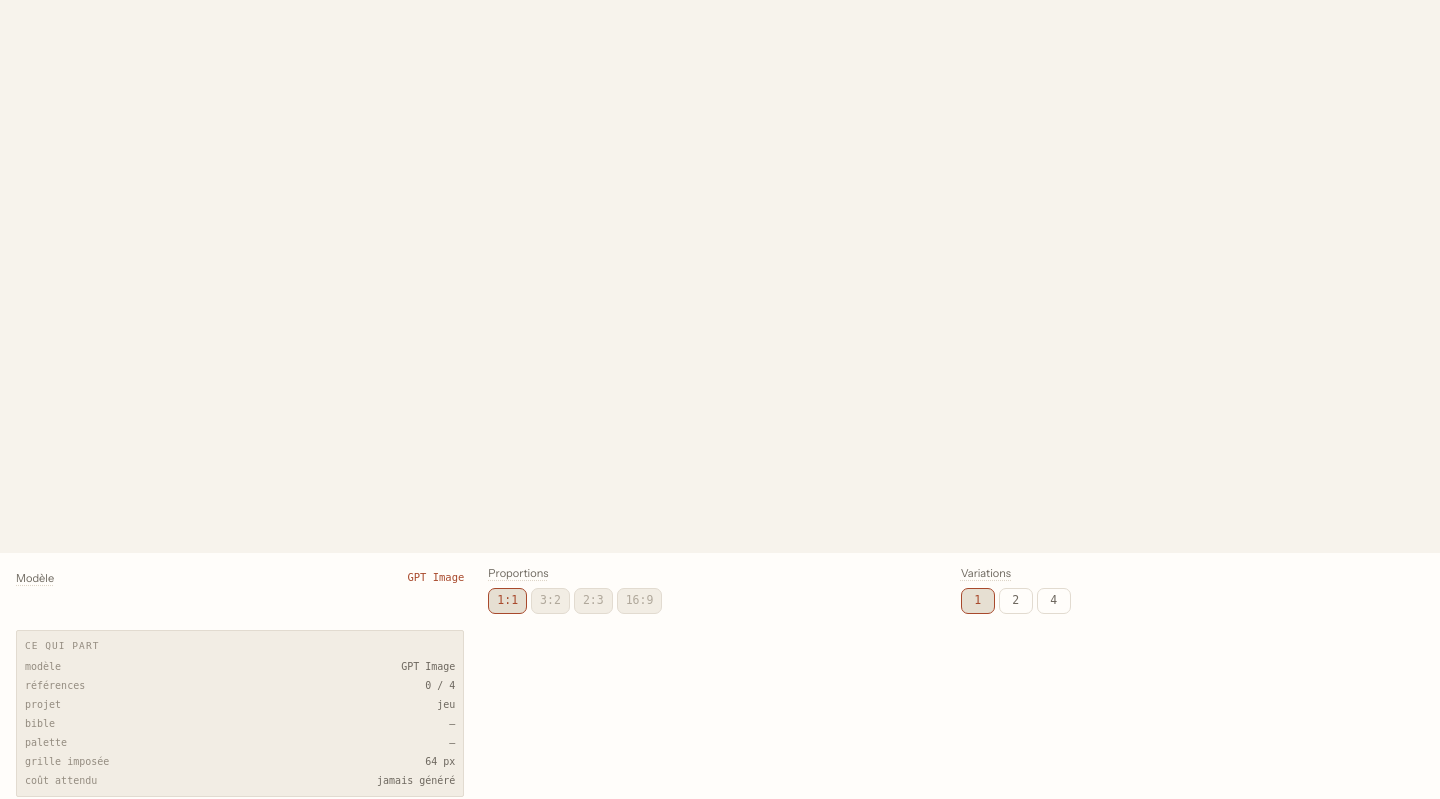
Test: un style manquant dit ce qu’il lui manque, sans bouton d’installation
The image size is (1440, 799).
(page scrolled)
Click the button "Modèle GPT Image" at (35, 578), box [12,565,468,591]
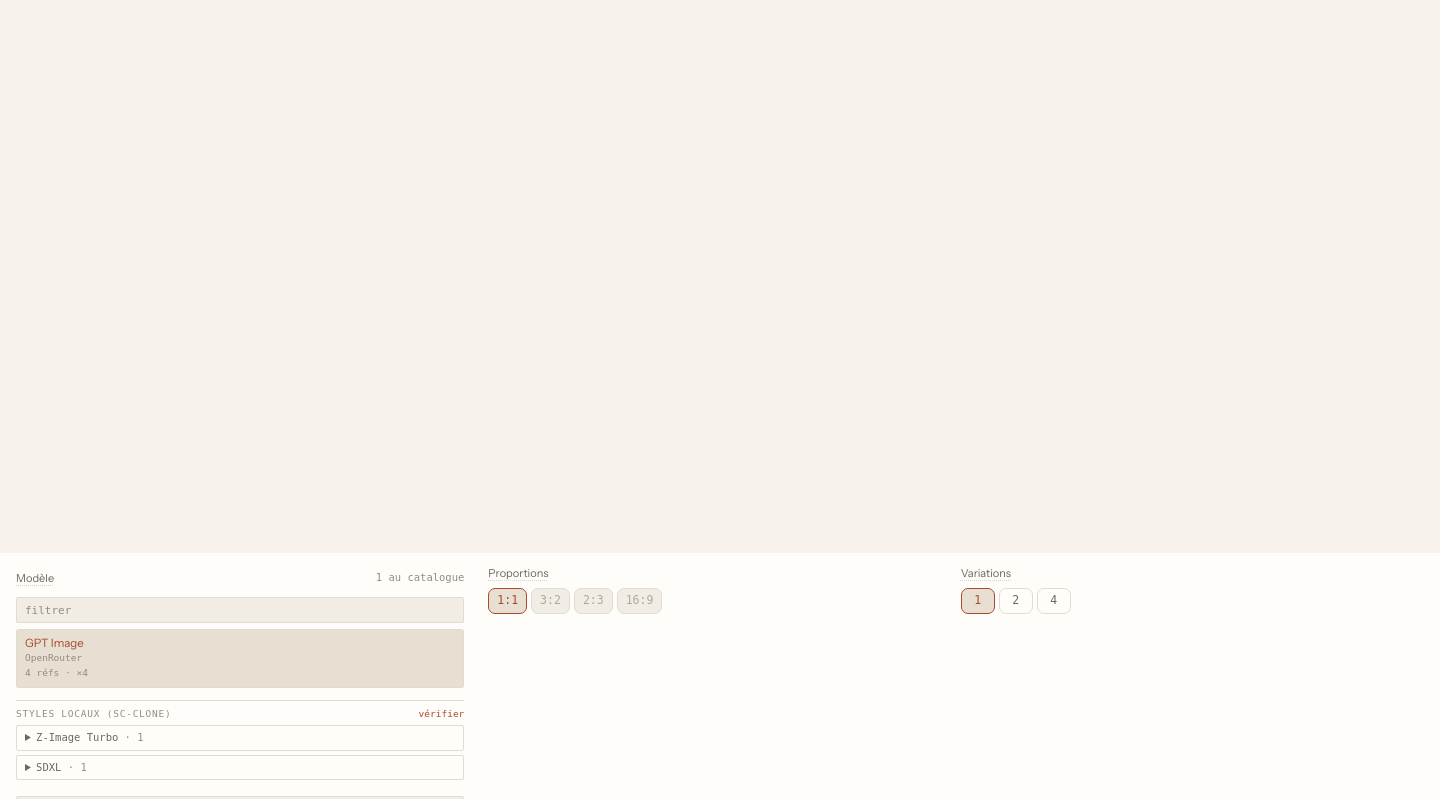
Click the heading "SDXL · 1" at (61, 766), box [36,760,87,772]
(page scrolled)
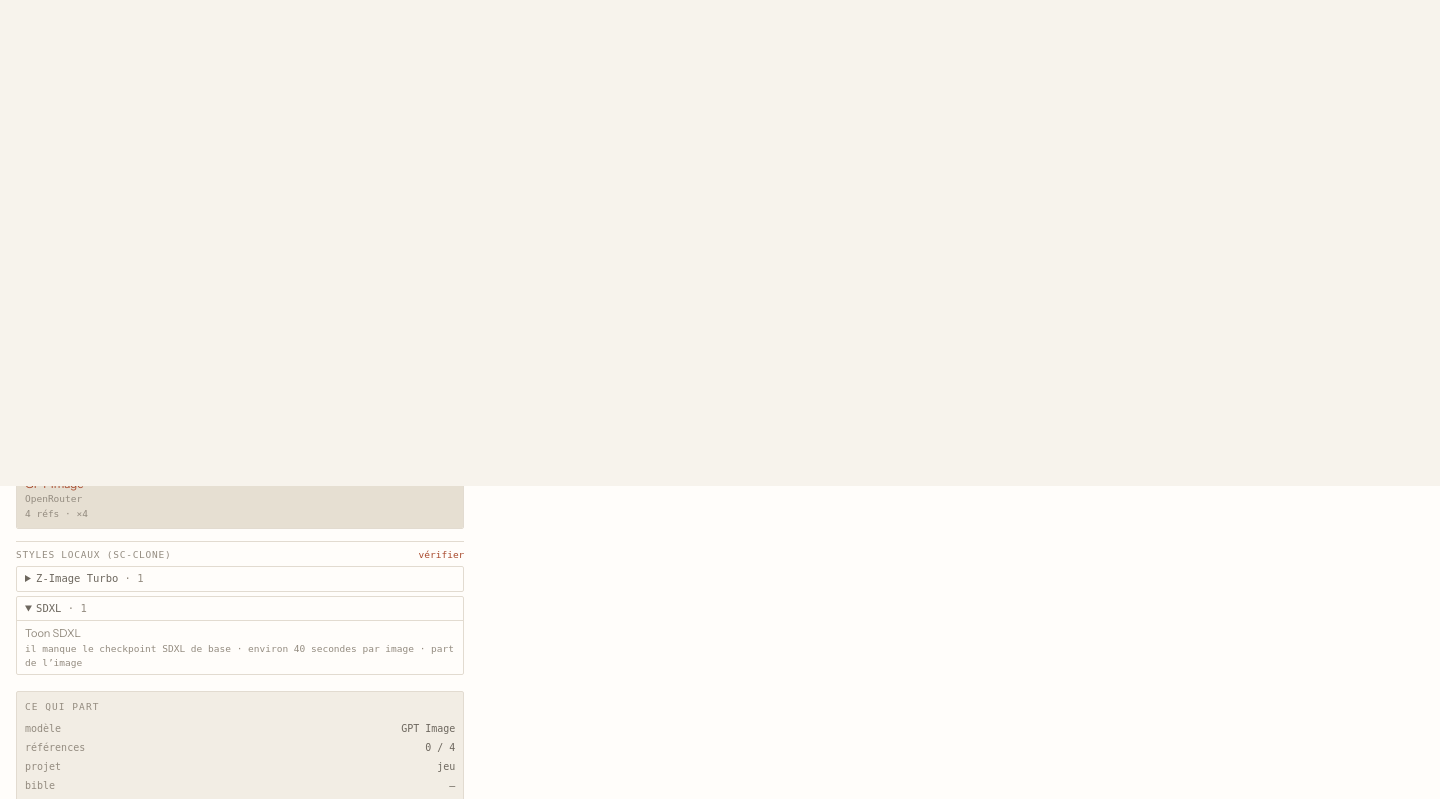
Expected: the list item "Toon SDXL" does not show "installer", [17,620,463,674]
Result: the list item "Toon SDXL" shows "il manque le checkpoint SDXL de base" at [25,643,231,654]
